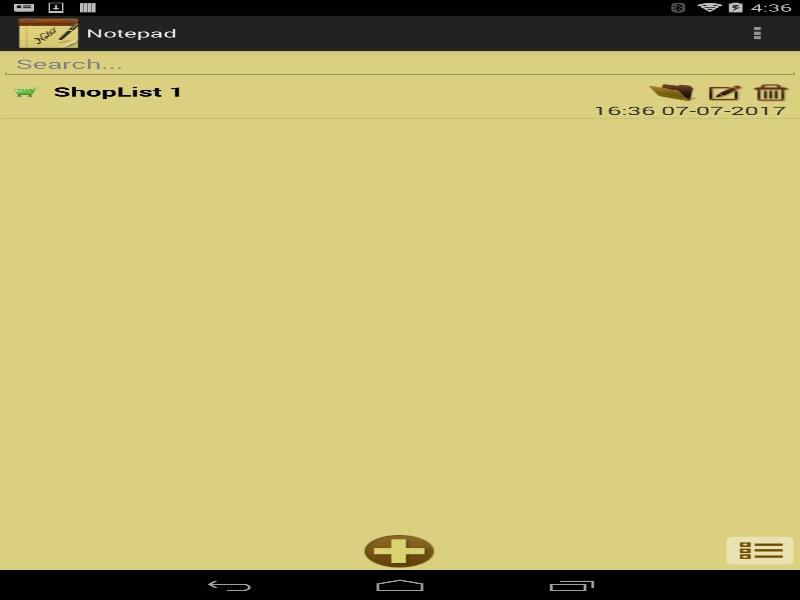Button: (13, 535, 120, 566), (714, 15, 800, 50), (363, 533, 436, 568), (722, 535, 796, 566)
Input: (0, 50, 800, 77)
